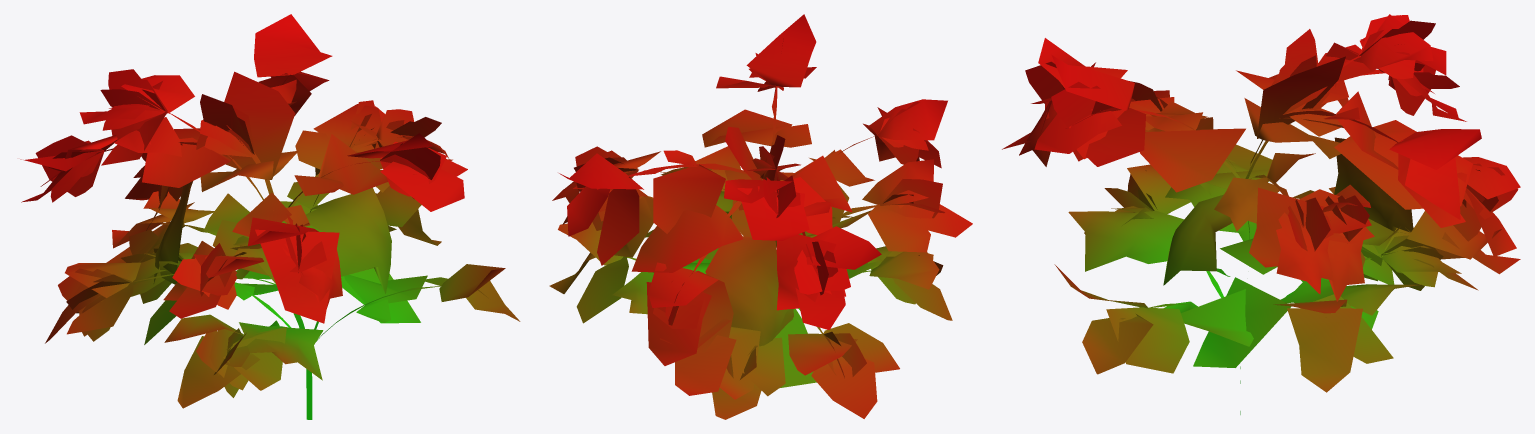
Rendered from Var6_LOD5.fbx.
3 renders of one model, left to right at view 1: azimuth 30°, elevation 25°; view 2: azimuth 150°, elevation 25°; view 3: azimuth 270°, elevation 25°, orthographic. The views are drawn at different scales.
Parts seen in each view (by area): view 1: _00qv_Var6_LOD5; view 2: _00qv_Var6_LOD5; view 3: _00qv_Var6_LOD5.
Boxes of the visible parts, x1,y1,x2,y2 form: _00qv_Var6_LOD5: [20, 14, 520, 419]; _00qv_Var6_LOD5: [549, 14, 972, 419]; _00qv_Var6_LOD5: [1002, 14, 1520, 414].
Size of the model in its own units: 87.01 by 73.01 by 91.5.
